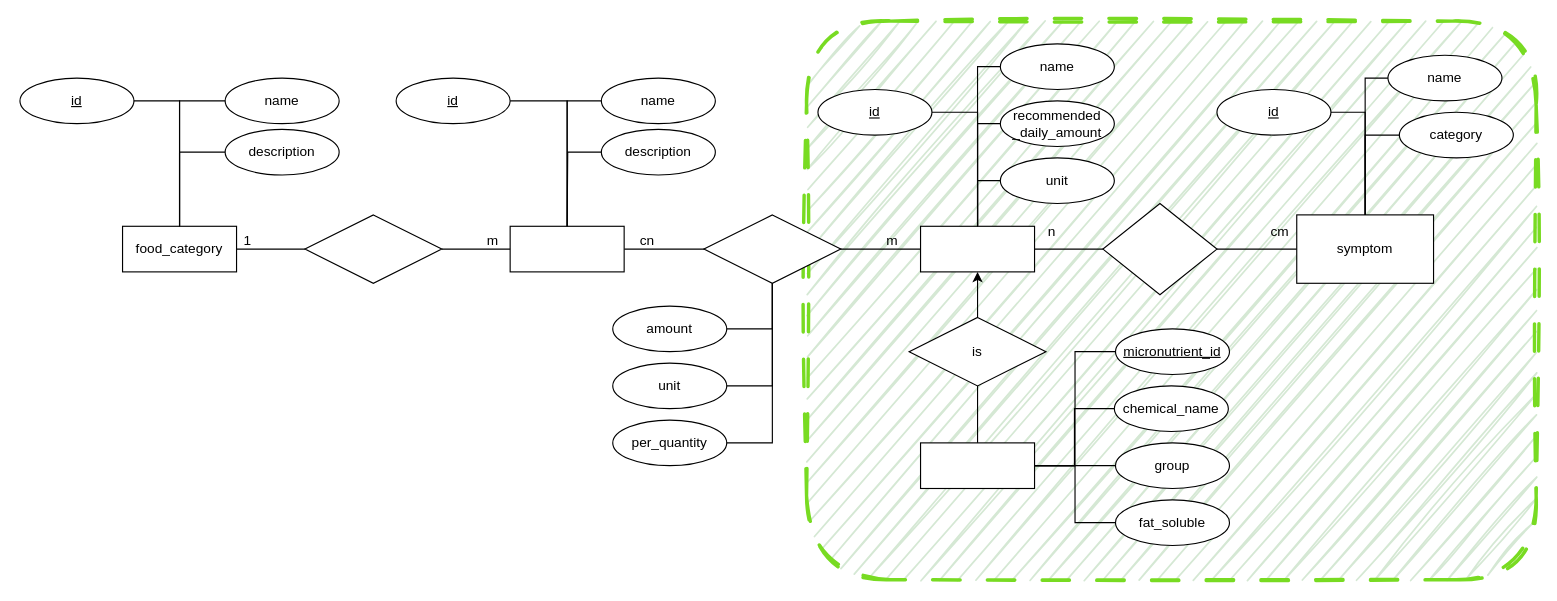
Some shapes in this 1557 by 601 pixel diagram are drawn without their labels. Here are the shapes that lost their labels. From the top down, the box of each, then its label:
(304, 214, 442, 283): has
(509, 225, 624, 272): food
(703, 214, 841, 283): consists of
(919, 225, 1035, 272): micronutrient
(1102, 202, 1217, 295): deficiency can cause
(919, 442, 1035, 488): vitamin
